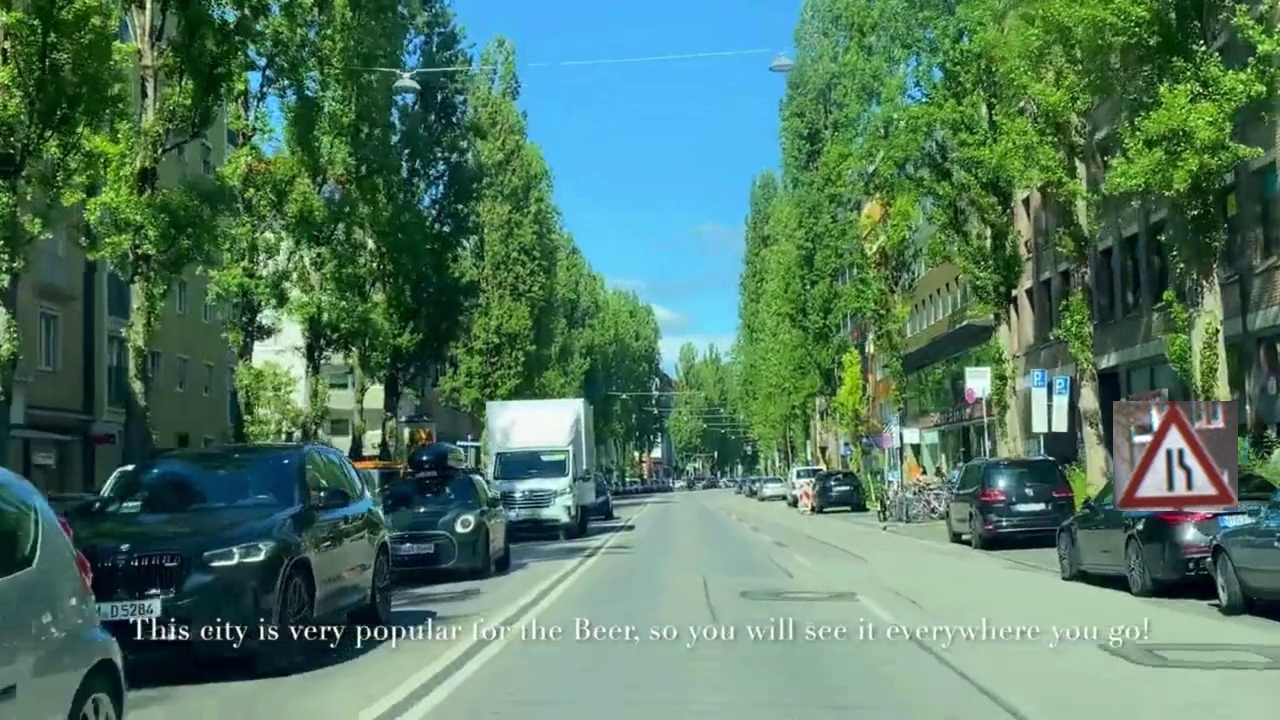Road narrows: (1113, 401, 1238, 511)
